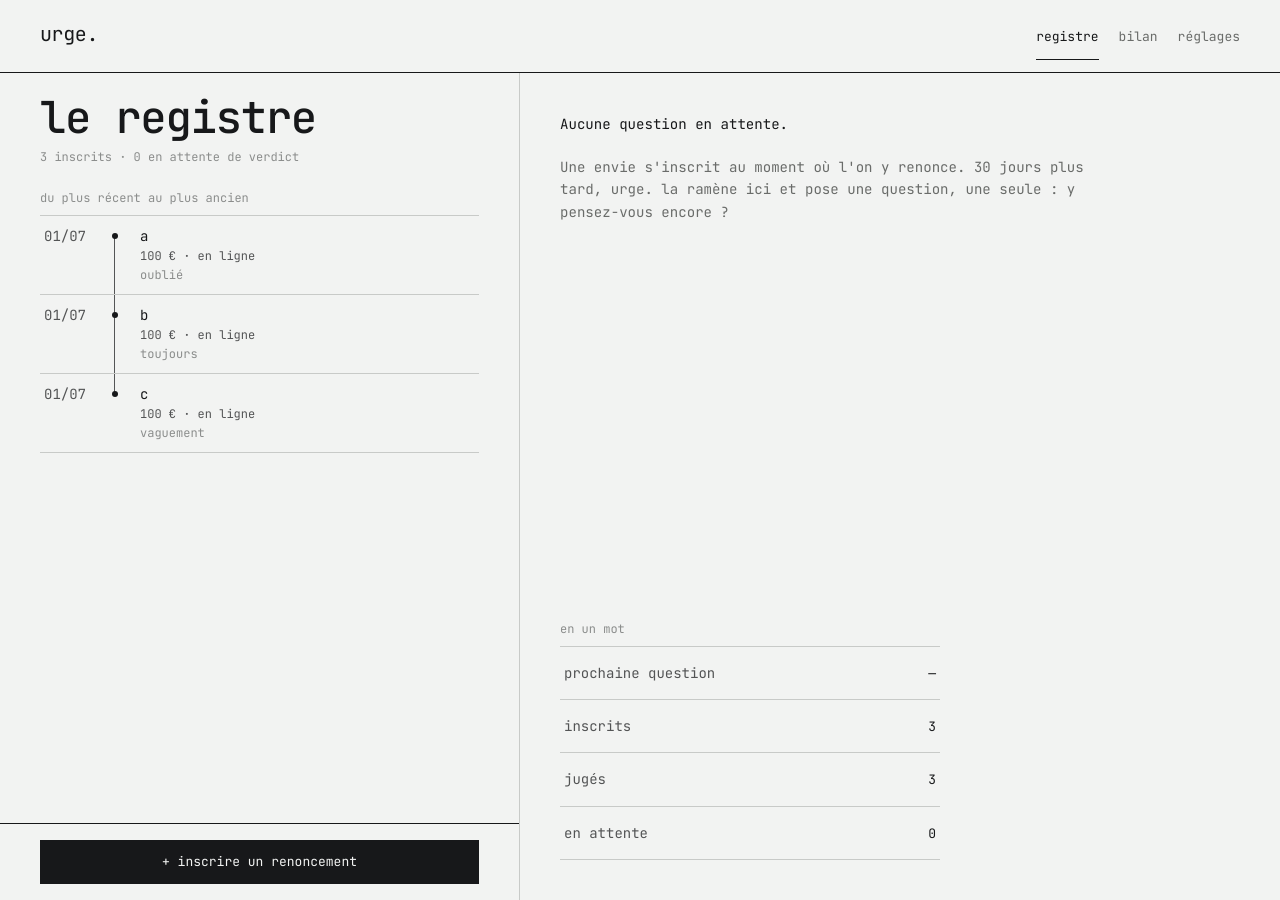
Test case: le bilan › compte les réponses au mois où elles ont été données
Click the button "bilan". click: (1138, 38)
box: [1119,16,1158,60]
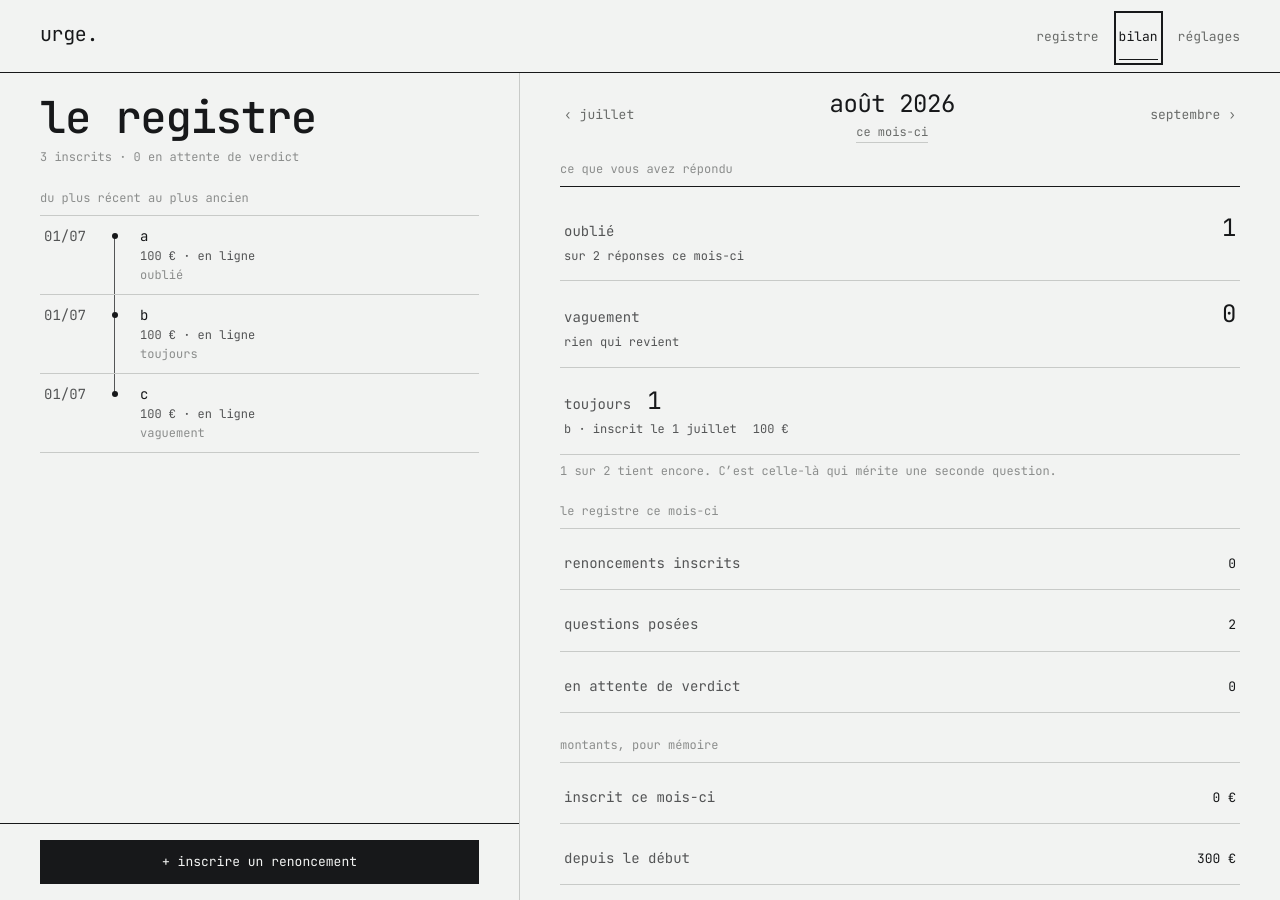
Expected: the text "août 2026" is shown, [830,87,955,122]
Expected: the text "sur 2 réponses ce mois-ci" is shown, [564,248,744,264]
